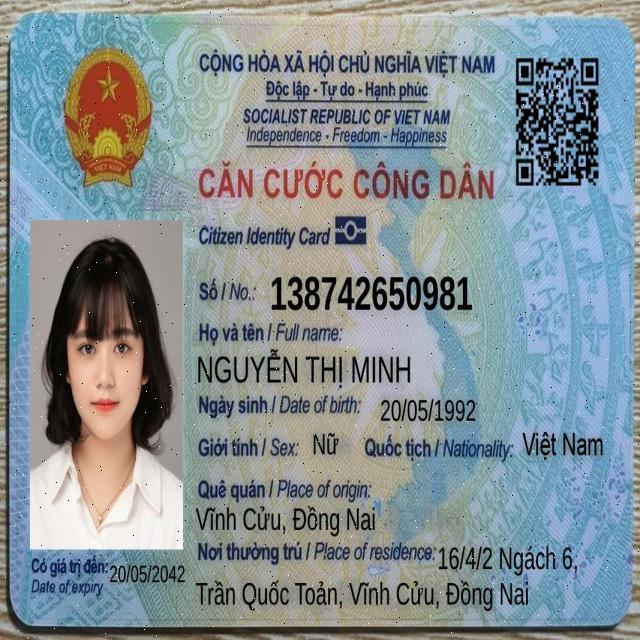current_place: (193, 577, 531, 615), (437, 543, 579, 578)
dob: (380, 396, 477, 424)
expire_date: (108, 562, 187, 587)
gender: (311, 430, 341, 458)
id: (269, 272, 474, 316)
name: (196, 346, 413, 391)
nationality: (521, 429, 605, 463)
origin_place: (194, 504, 377, 539)
qr: (511, 48, 602, 195)
